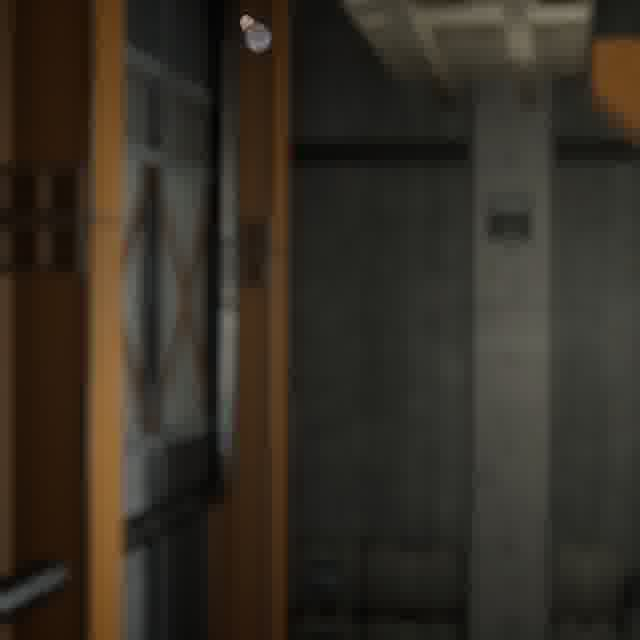bolt: (234, 11, 277, 59)
